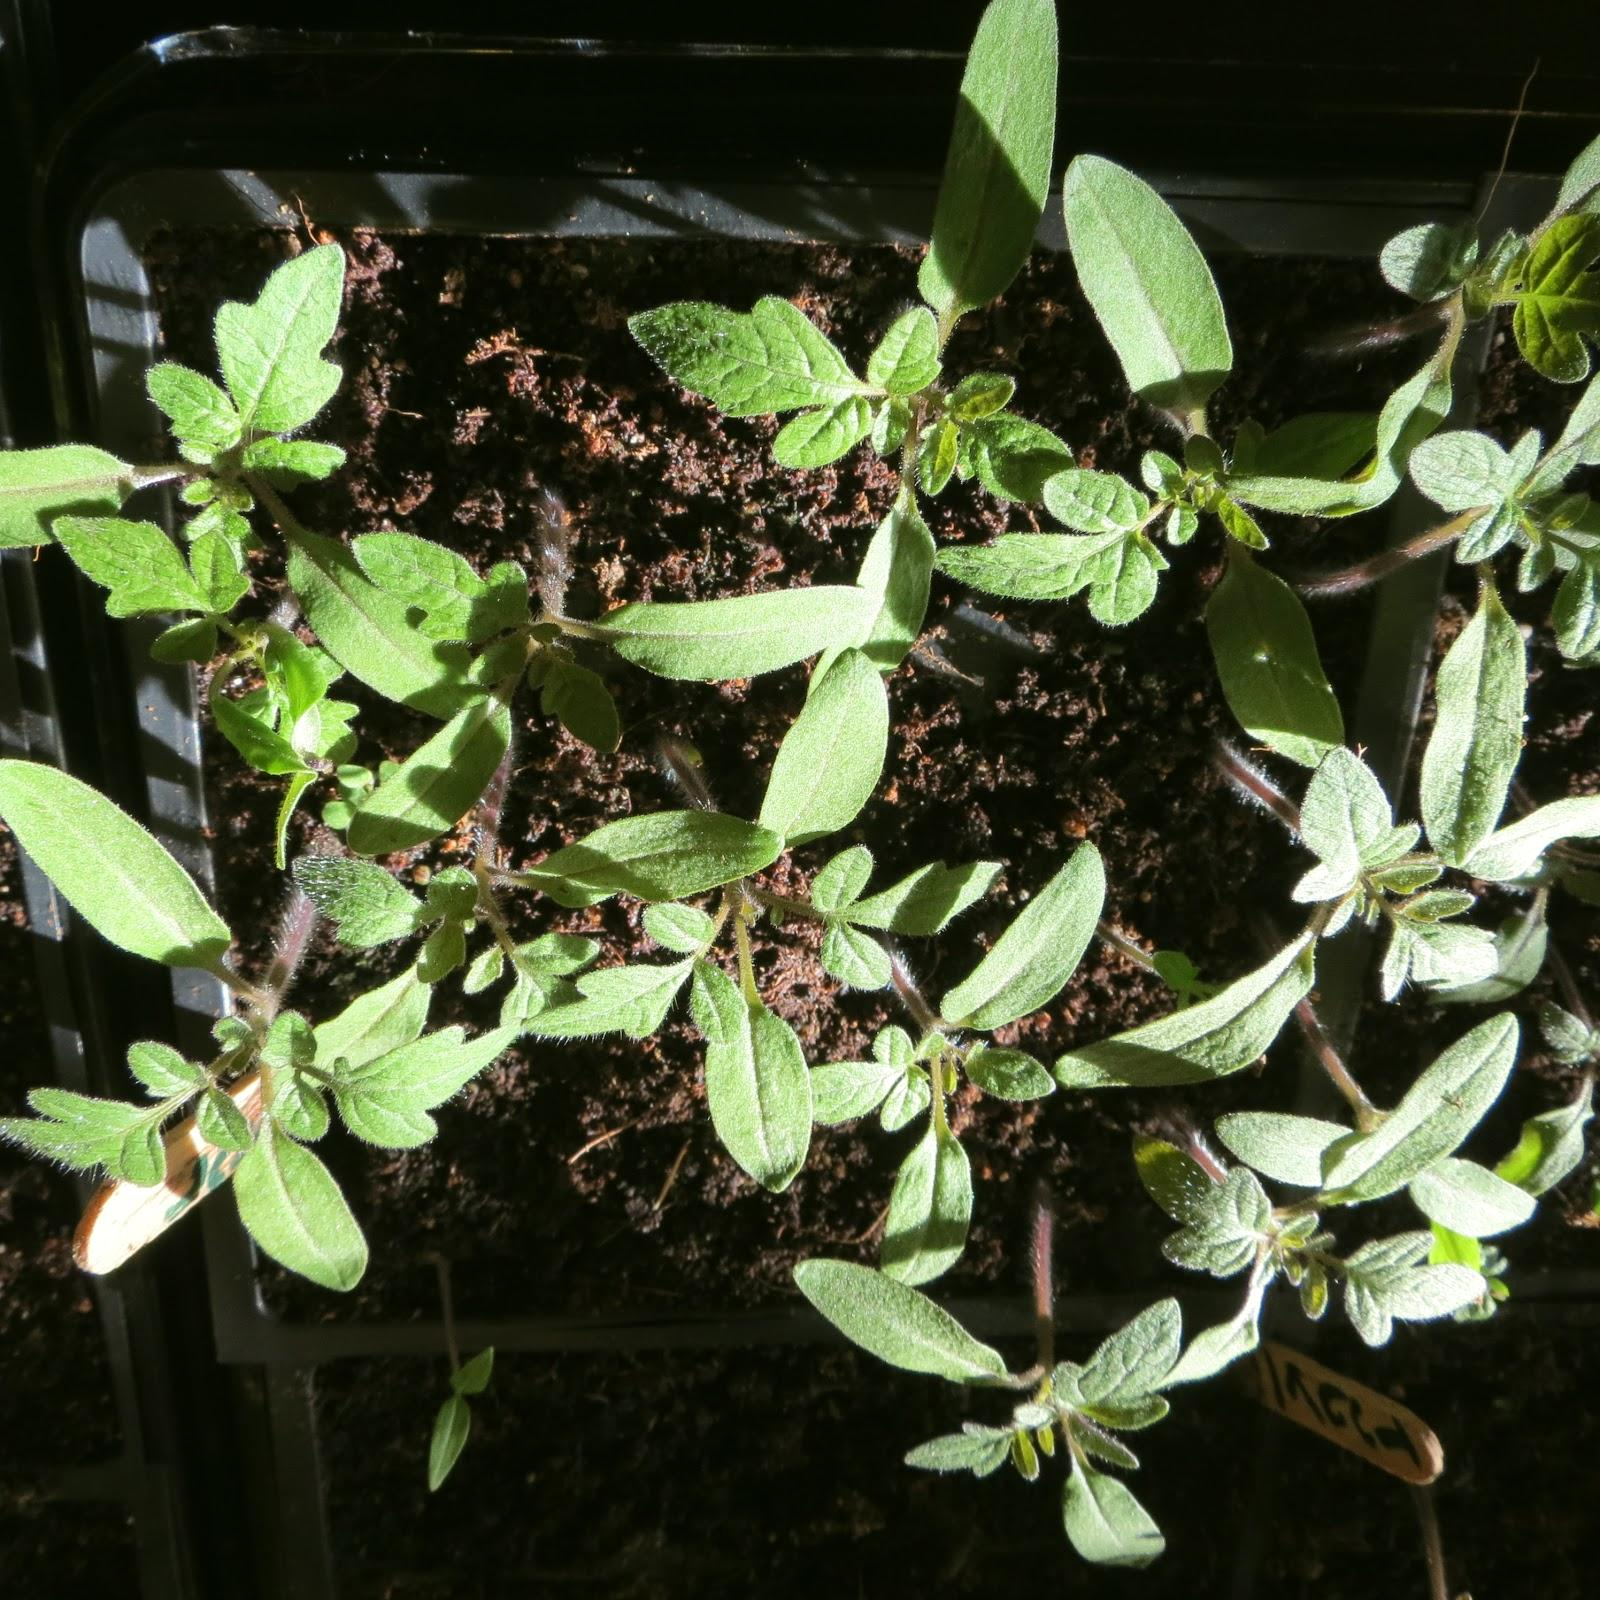Tomato leaf: (148, 223, 382, 492), (1058, 141, 1242, 450), (903, 0, 1078, 318), (1, 736, 215, 988), (1292, 1005, 1534, 1226), (1412, 541, 1562, 892), (1188, 488, 1360, 781), (920, 826, 1114, 1067), (932, 462, 1196, 636), (1039, 942, 1332, 1092), (788, 1244, 1045, 1402), (615, 253, 851, 421), (12, 1049, 259, 1193), (741, 648, 895, 867), (346, 658, 520, 848), (226, 1095, 371, 1319), (599, 574, 888, 686), (327, 1002, 533, 1152), (697, 974, 815, 1219), (860, 1089, 990, 1292), (1032, 1396, 1166, 1577), (1048, 1278, 1181, 1434), (64, 526, 232, 634)
